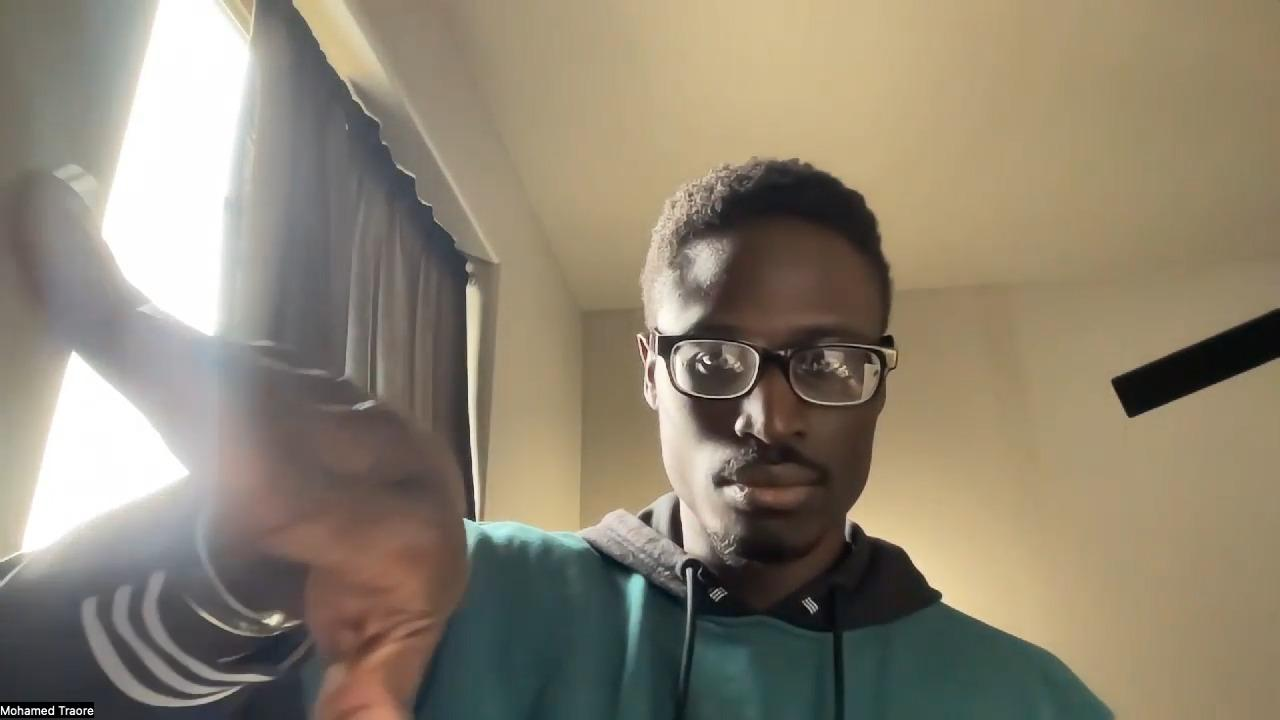Paper: (8, 170, 469, 720)
